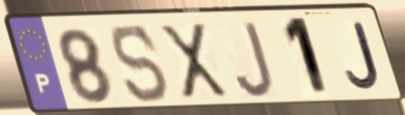1: (281, 14, 334, 101)
8: (56, 26, 118, 106)
J: (233, 19, 277, 101), (343, 19, 383, 92)
S: (109, 22, 172, 106)
X: (156, 21, 233, 103)
